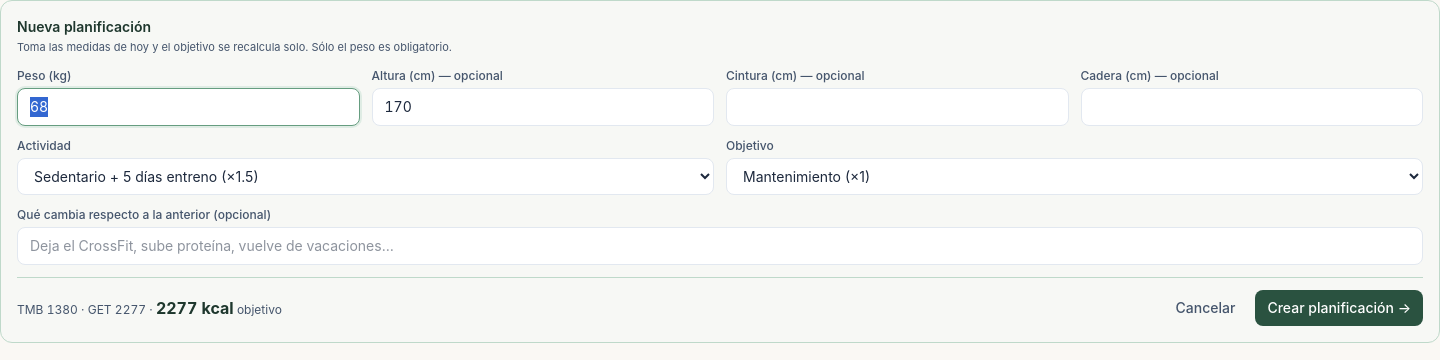
Test: Nueva planificación con medidas nuevas › cambiar el peso recalcula el objetivo y enseña la diferencia
This screenshot has width=1440, height=360.
Replace the text in the number field labelled "Peso (kg)" with "64" at (188, 106), box x1=17 y1=88 x2=360 y2=126
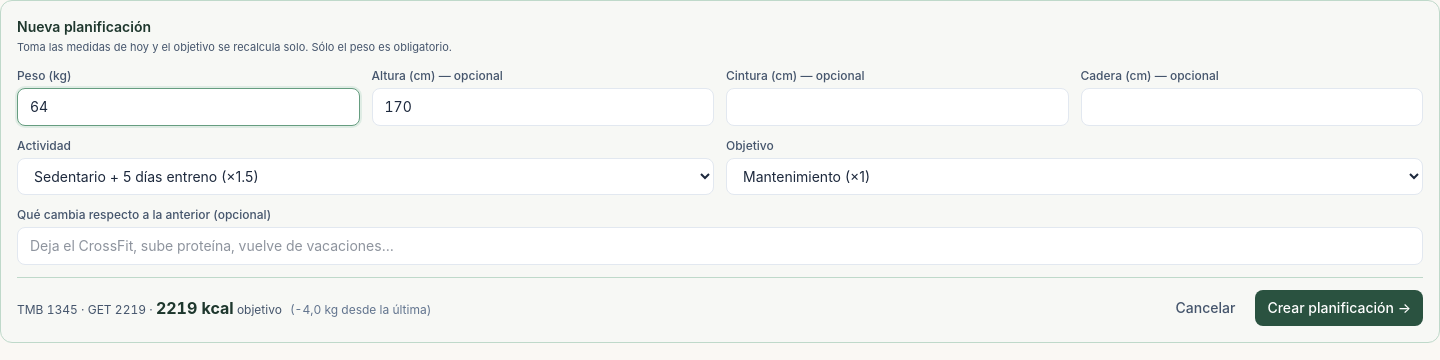
Check: the text "(-4,0 kg desde la última)" is shown, box x1=290 y1=302 x2=431 y2=316
